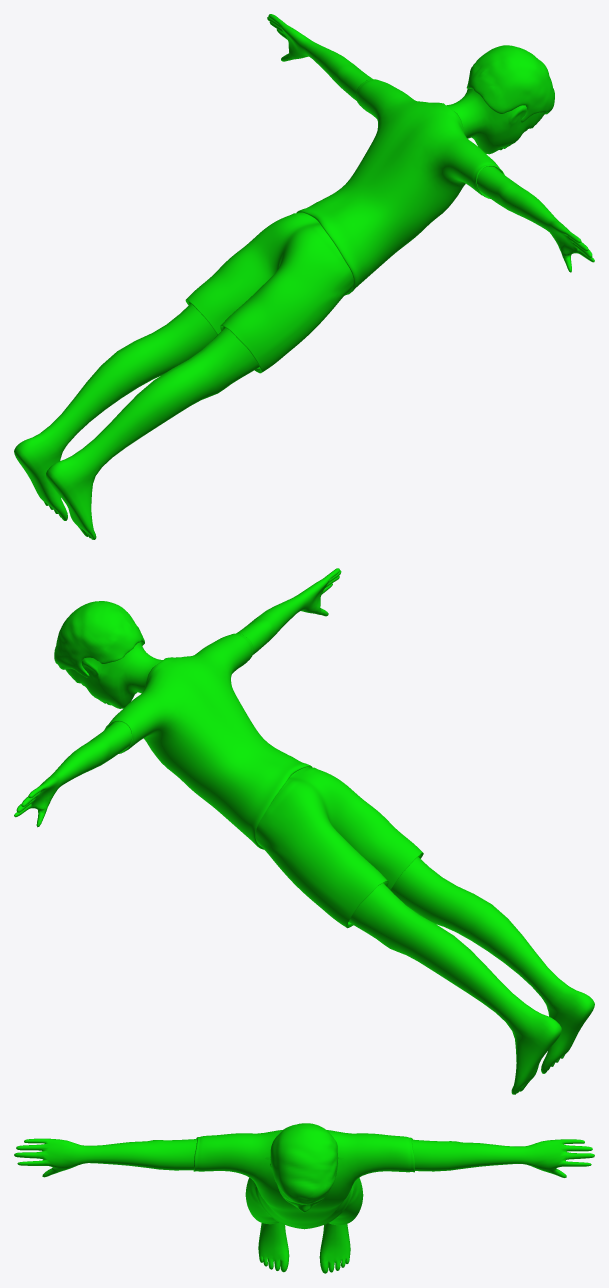
Rendered from hobbit.glb.
The picture shows the model from 3 angles, top to bottom: view 1: azimuth 30°, elevation 25°; view 2: azimuth 150°, elevation 25°; view 3: azimuth 270°, elevation 25°; orthographic projection. The views are drawn at different scales.
Parts seen in each view (by area): view 1: Group54697; view 2: Group54697; view 3: Group54697.
Boxes of the visible parts, <box> form: Group54697: <box>14,14,594,539</box>; Group54697: <box>14,568,594,1094</box>; Group54697: <box>14,1123,594,1273</box>.
Bounding box in the file's own units: 16.16 × 11.12 × 17.34.
